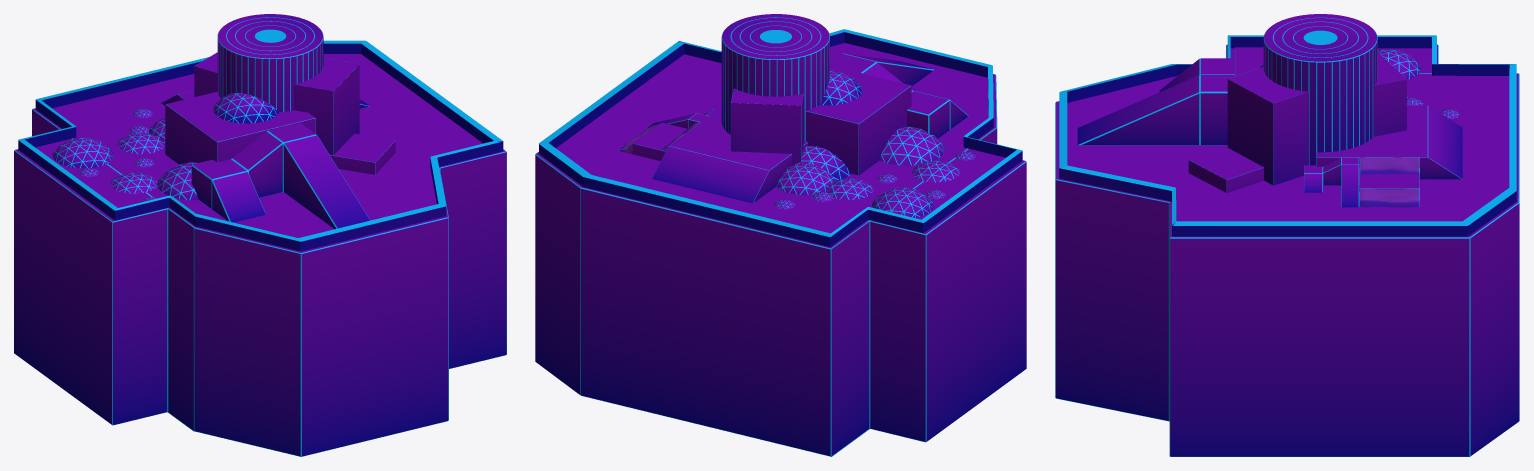
File: MESH_SceneSample.fbx
3 views of the same model, side by side, from view 1: azimuth 30°, elevation 25°; view 2: azimuth 150°, elevation 25°; view 3: azimuth 270°, elevation 25° (orthographic). The views are drawn at different scales.
Parts seen in each view (by area): view 1: MESH_SceneSample; view 2: MESH_SceneSample; view 3: MESH_SceneSample.
Boxes of the visible parts, bbox=[...] form: MESH_SceneSample: bbox=[14, 14, 506, 456]; MESH_SceneSample: bbox=[535, 14, 1026, 456]; MESH_SceneSample: bbox=[1055, 14, 1519, 456].
Size of the model in its own units: 11774 by 9416 by 11934.
